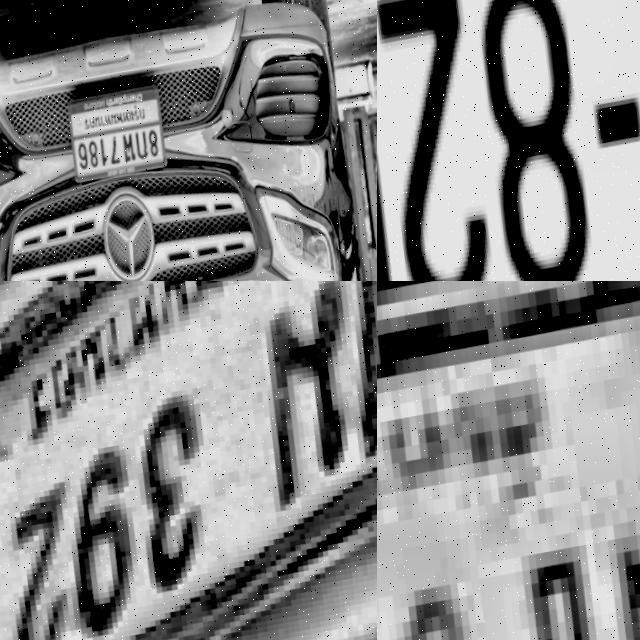license-plate: (0, 281, 377, 640), (377, 281, 640, 640), (377, 0, 640, 281), (66, 88, 170, 182)
